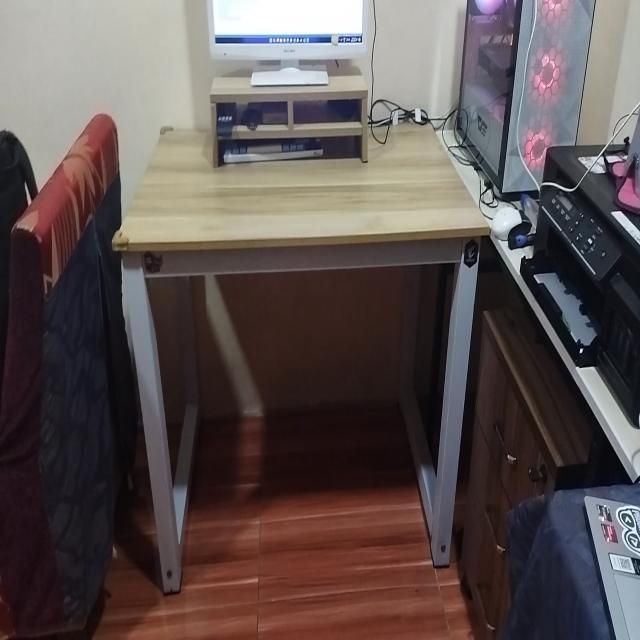table: (112, 113, 494, 588)
